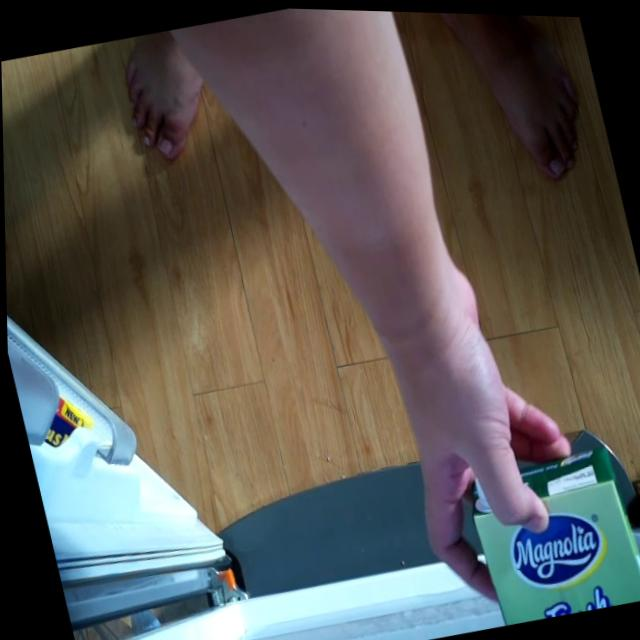milk: (451, 430, 640, 624)
